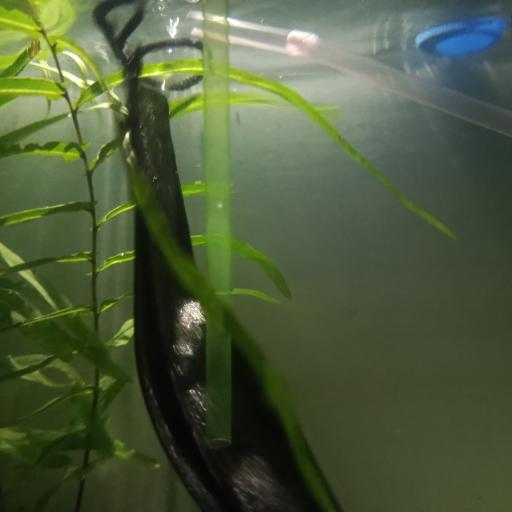bottle_cap: (416, 11, 505, 59)
mask: (90, 0, 326, 509)
plastic_straw: (193, 9, 512, 134), (190, 0, 245, 453)
